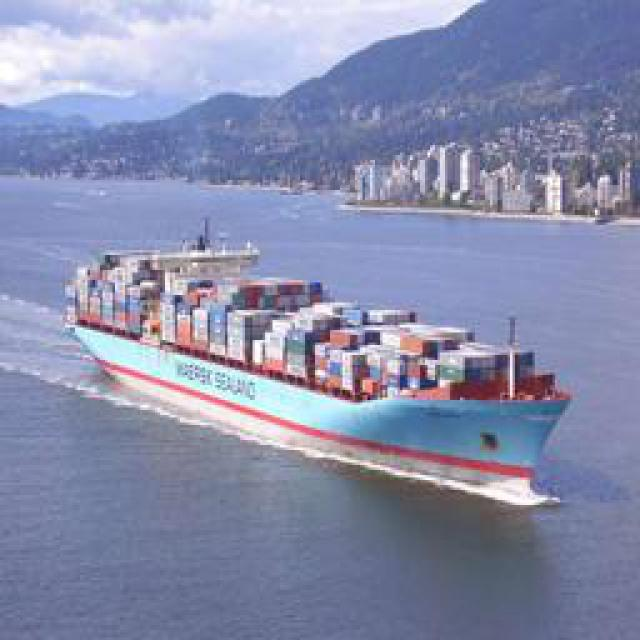Ship: (65, 230, 573, 505)
